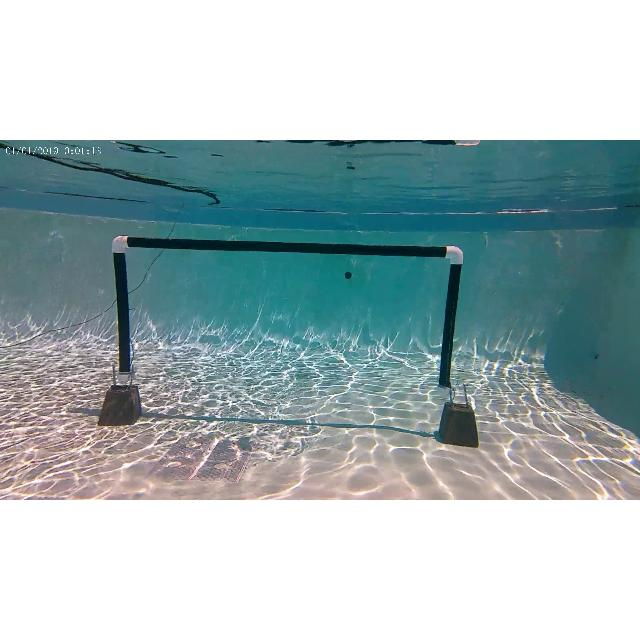prequal gate: (113, 235, 463, 395)
prequal gate leg l: (104, 232, 144, 396)
prequal gate leg r: (432, 236, 466, 402)
